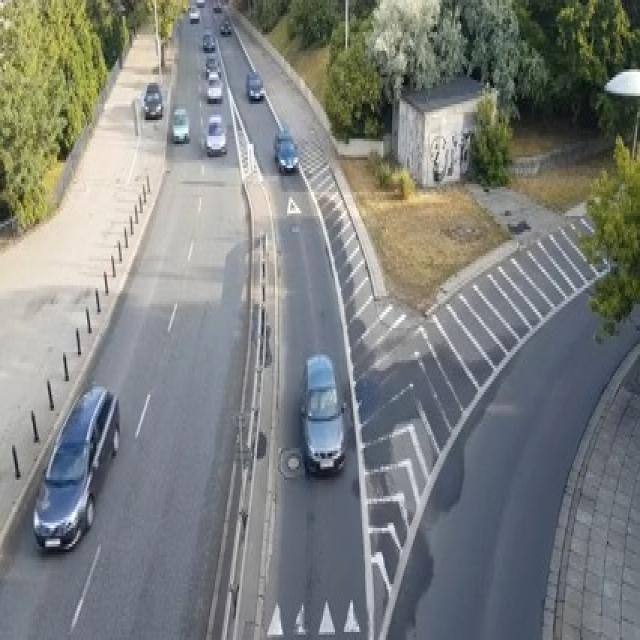car: (32, 384, 120, 552), (299, 352, 346, 475), (273, 131, 299, 173), (206, 112, 227, 155), (141, 83, 162, 117), (172, 107, 190, 141), (247, 70, 264, 102), (206, 72, 222, 101), (204, 56, 221, 77), (201, 29, 215, 51), (220, 18, 232, 34), (189, 6, 200, 22), (212, 0, 221, 11), (195, 0, 204, 5)
